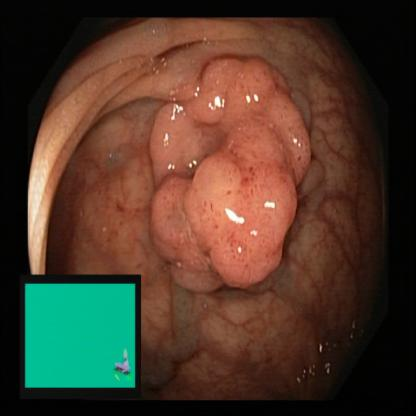Labels: (23, 272, 143, 396)
Polyps: (149, 61, 301, 289)
